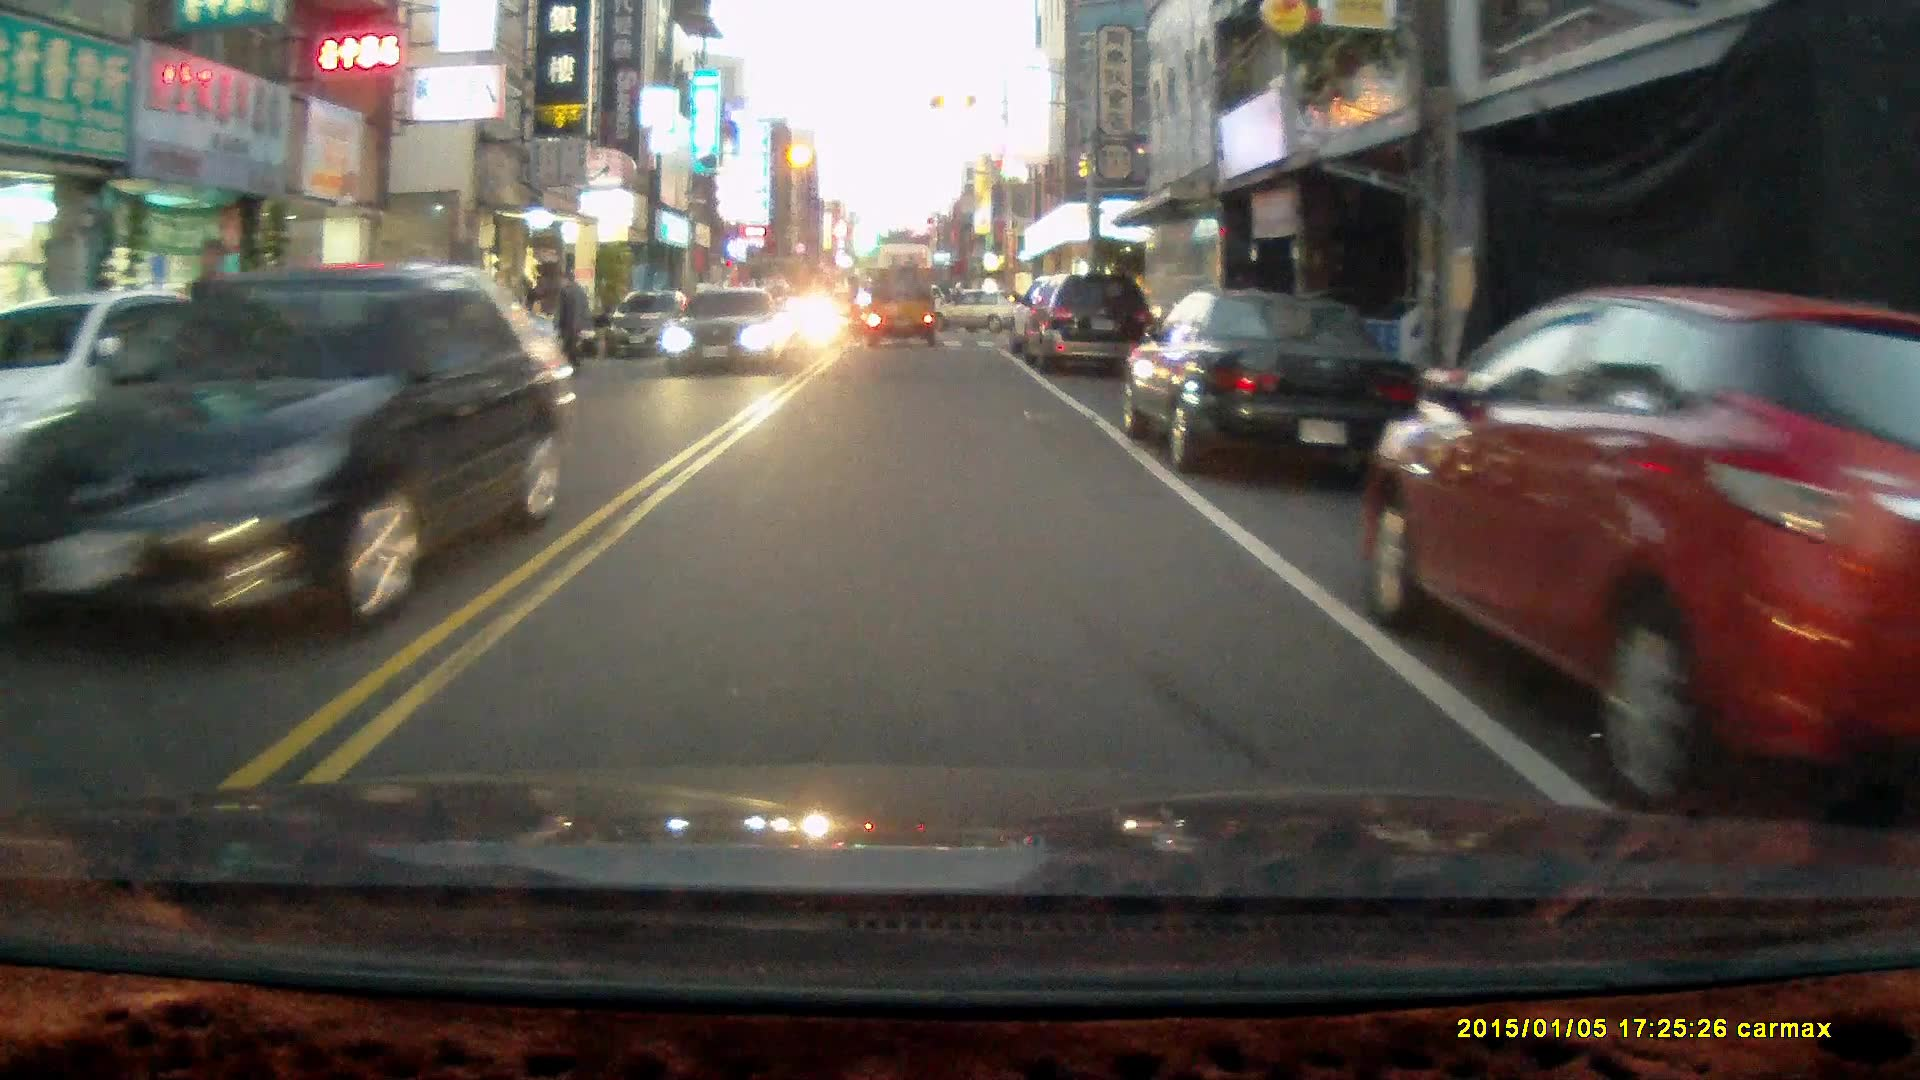pedestrian: (553, 267, 594, 385)
vehicle: (1368, 285, 1920, 806), (37, 262, 580, 656), (1120, 285, 1423, 479), (1018, 271, 1159, 376), (666, 286, 790, 378), (604, 288, 699, 354), (868, 267, 939, 349)
